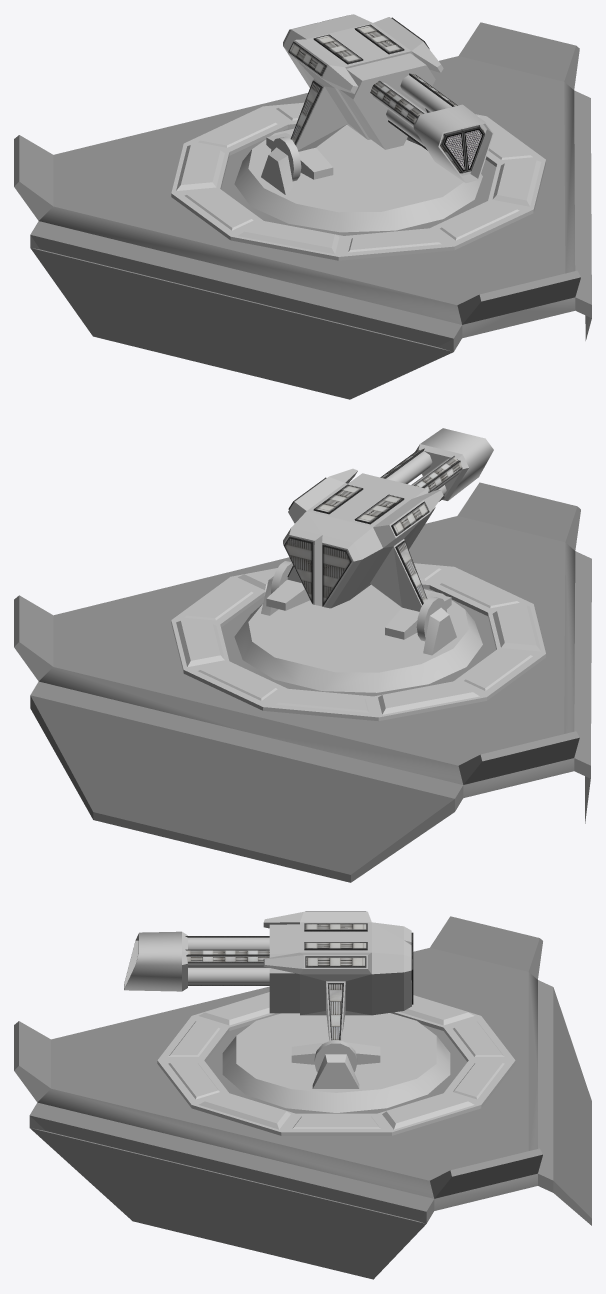
File: wsp_LaserBeamTurretColor.FBX
3 views of the same model, one above another, from view 1: azimuth 30°, elevation 25°; view 2: azimuth 150°, elevation 25°; view 3: azimuth 270°, elevation 25° (orthographic). The views are drawn at different scales.
Visible parts, largest first — view 1: TurretPlatform01, LaserBeamTurret, LBTBase, TurretLevelIndicatorBase, TurretColoring, Level02, Level09, Level04, Level01, Level10, Level05, Level03 (+1 smaller); view 2: TurretPlatform01, LaserBeamTurret, LBTBase, TurretLevelIndicatorBase, TurretColoring, Level04, Level07, Level02, Level05, Level06, Level01, Level03 (+1 smaller); view 3: TurretPlatform01, LaserBeamTurret, LBTBase, TurretLevelIndicatorBase, TurretColoring, Level07, Level09, Level02, Level04, Level08, Level06, Level10 (+2 smaller).
Part boxes in pixels (box(x1,y1,x2,y2)): TurretPlatform01: box(14, 22, 591, 399); LaserBeamTurret: box(266, 14, 493, 182); LBTBase: box(234, 125, 482, 232); TurretLevelIndicatorBase: box(171, 102, 545, 260); TurretColoring: box(288, 17, 484, 173); Level02: box(238, 221, 339, 254); Level09: box(492, 160, 541, 206); Level04: box(176, 145, 224, 190); Level01: box(348, 231, 441, 252); Level10: box(440, 204, 519, 240); Level05: box(198, 112, 277, 147); Level03: box(184, 192, 253, 230); TurretPlatform01: box(14, 482, 591, 882); LaserBeamTurret: box(266, 428, 493, 641); LBTBase: box(234, 576, 482, 692); TurretLevelIndicatorBase: box(171, 563, 545, 721); TurretColoring: box(284, 448, 462, 605); Level04: box(378, 682, 479, 714); Level07: box(176, 621, 224, 667); Level02: box(492, 605, 541, 651); Level05: box(276, 692, 368, 712); Level06: box(198, 665, 277, 700); Level01: box(440, 572, 519, 608); Level03: box(464, 652, 532, 690); TurretPlatform01: box(14, 916, 591, 1279); LaserBeamTurret: box(124, 911, 411, 1072); LBTBase: box(222, 1013, 450, 1112); TurretLevelIndicatorBase: box(157, 992, 515, 1135); TurretColoring: box(138, 911, 413, 1040); Level07: box(382, 1094, 474, 1129); Level09: box(198, 1094, 290, 1129); Level02: box(198, 992, 269, 1025); Level04: box(399, 995, 474, 1025); Level08: box(292, 1116, 380, 1128); Level06: box(453, 1063, 504, 1099); Level10: box(168, 1063, 219, 1099).
Size of the model in its own units: 3.92 by 3.71 by 1.66.
